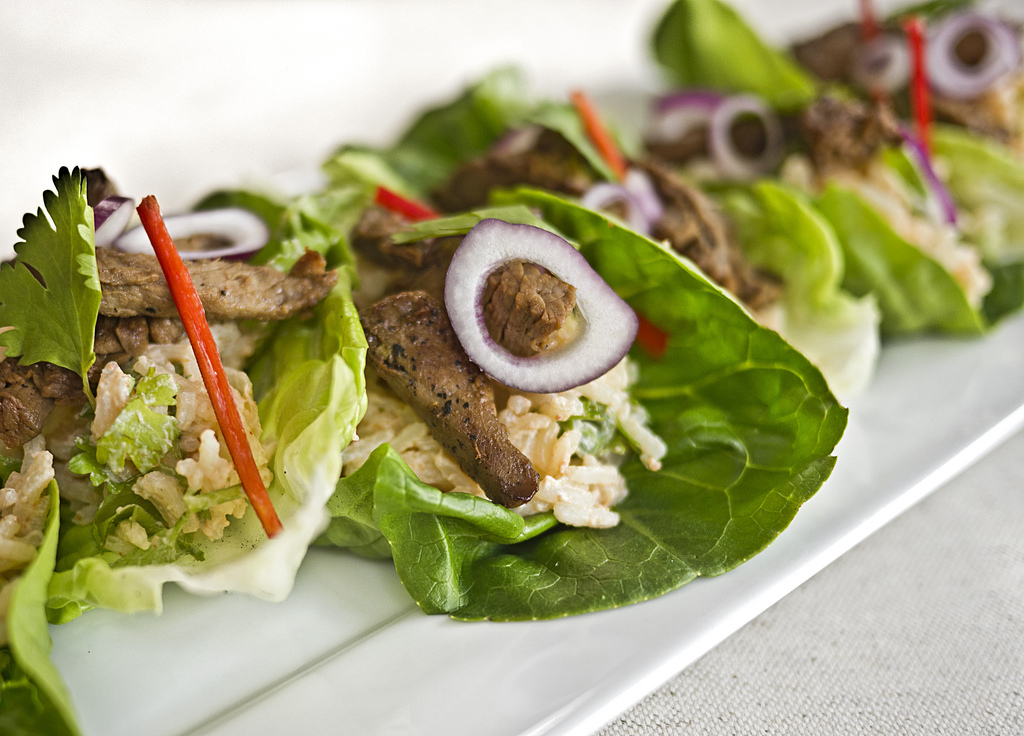chopped lettuce: (88, 270, 524, 621), (525, 197, 828, 617), (779, 176, 999, 328)
